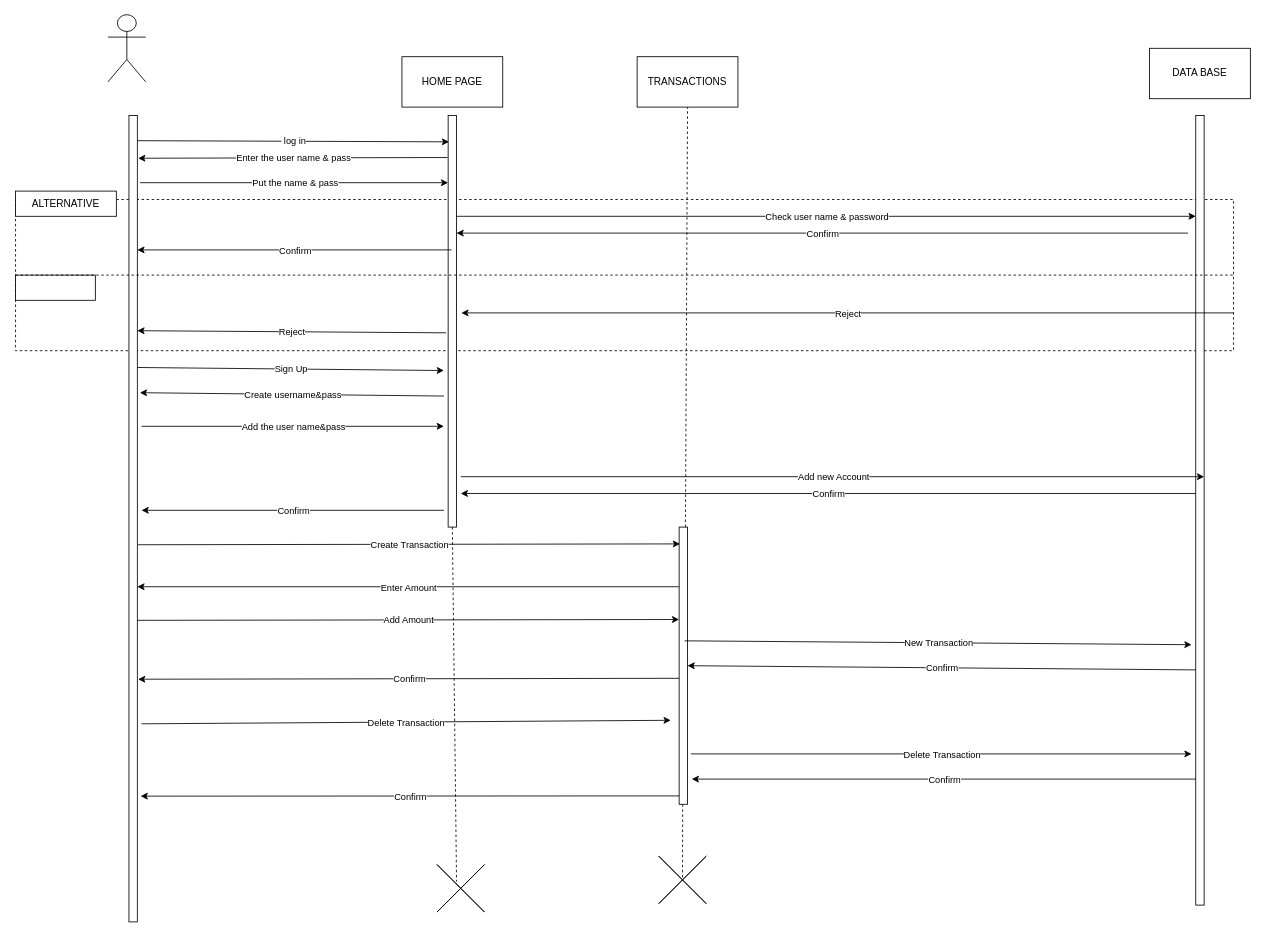
The diagram is 1265 pixels wide and 951 high, and some of its shapes have lost their labels. The centre of each missing label's shape, as x and y in pixels:
"ELSE" belongs at point (55, 287).
"USER" belongs at point (126, 48).
